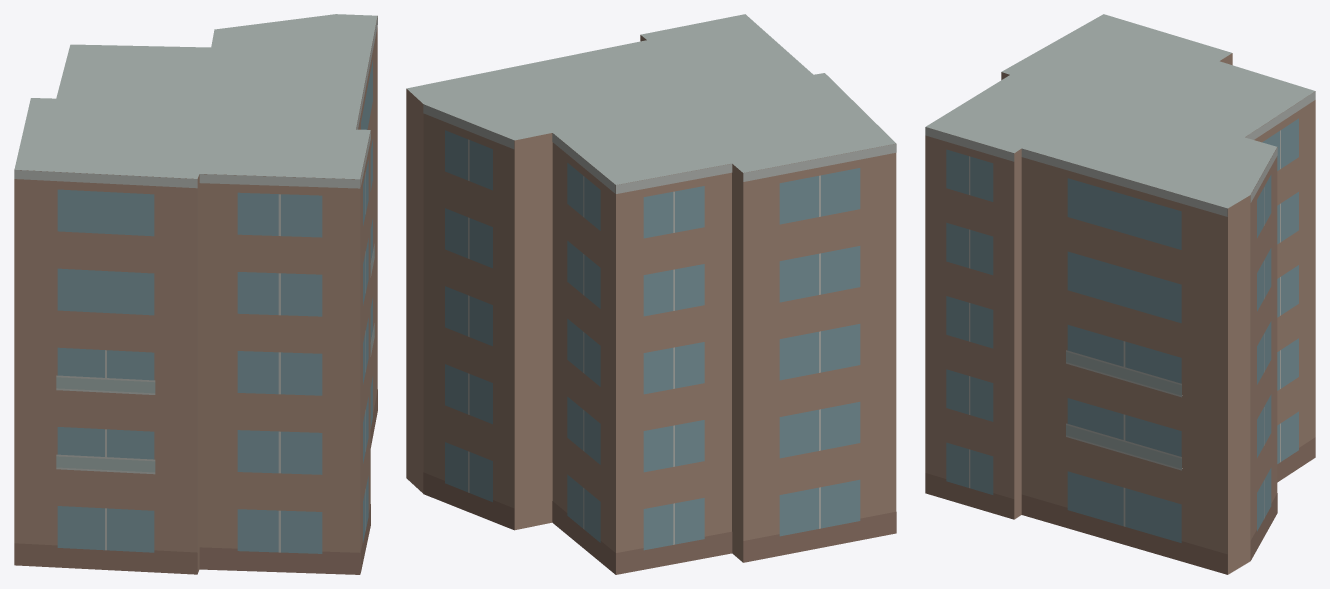
Rendered from survey-upis-32489980.glb.
3 views of the same model, side by side, from view 1: azimuth 30°, elevation 25°; view 2: azimuth 150°, elevation 25°; view 3: azimuth 270°, elevation 25° (orthographic). The views are drawn at different scales.
Parts seen in each view (by area): view 1: survey-upis-32489980.tmp; view 2: survey-upis-32489980.tmp; view 3: survey-upis-32489980.tmp.
Boxes of the visible parts, x1=… form: survey-upis-32489980.tmp: x1=14, y1=14, x2=377, y2=574; survey-upis-32489980.tmp: x1=406, y1=14, x2=896, y2=574; survey-upis-32489980.tmp: x1=925, y1=14, x2=1315, y2=574.
Size of the model in its own units: 11.85 by 10.4 by 10.05.
